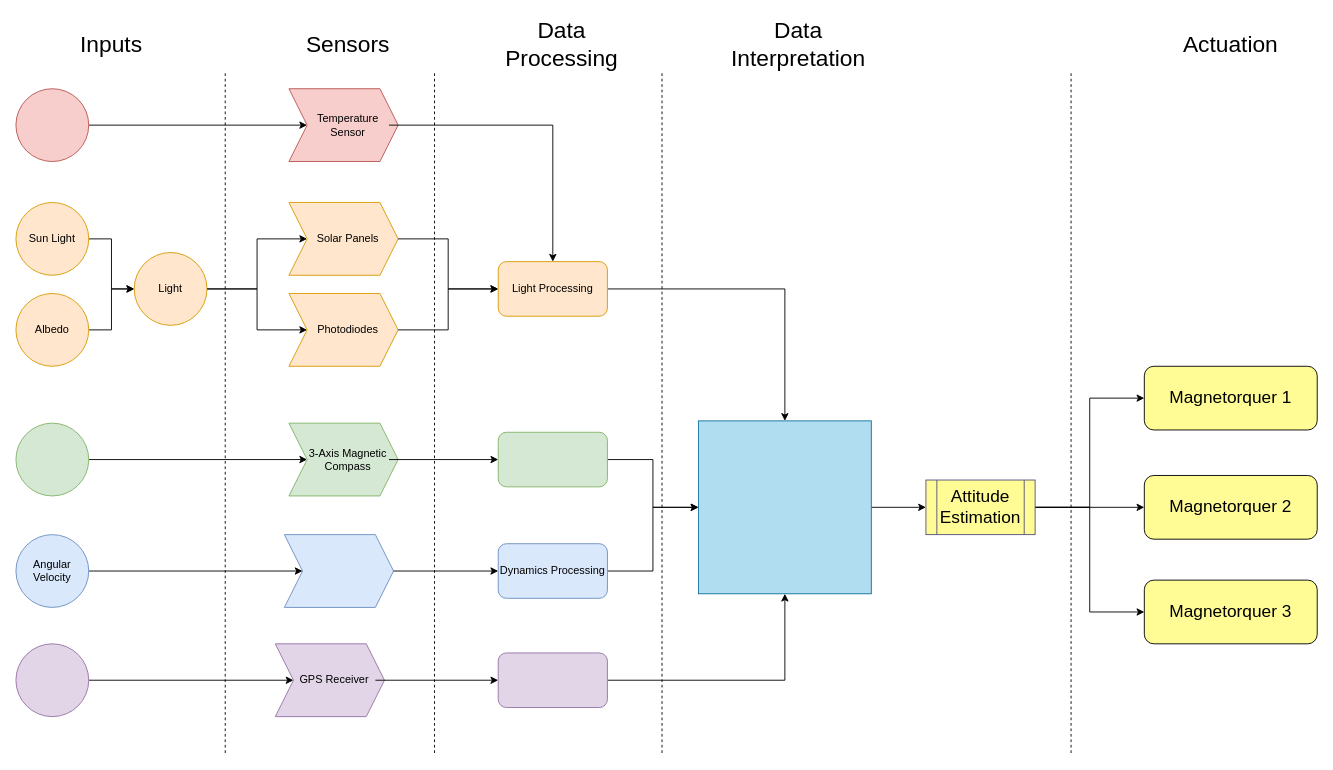
This 1333x770 diagram has some shape labels left out. Here are the shapes that lost their labels. From the top down, the centre of each, then its label:
point (52, 125): Temperature
point (52, 459): Magnetic Field
point (552, 459): Magnetic Field Processing
point (784, 507): State Estimation
point (338, 570): 3-Axis Gyroscope
point (52, 680): Orbital Location
point (552, 680): Orbital Processing
